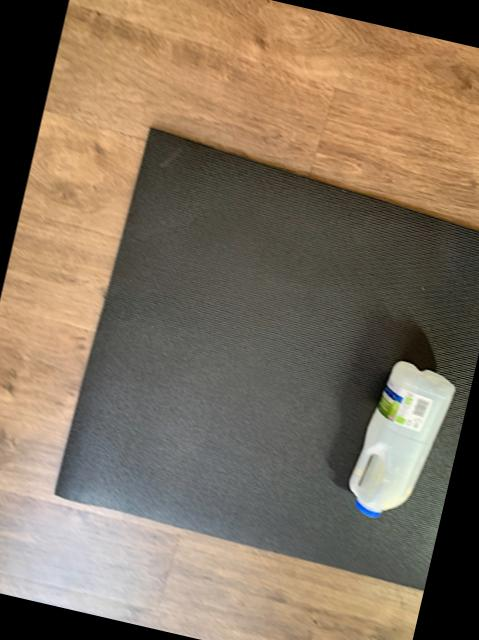plastic: (350, 359, 455, 514)
